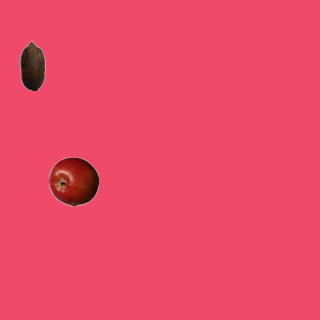Apple Braeburn: (48, 156, 98, 206)
Nut Pecan: (7, 40, 57, 90)
